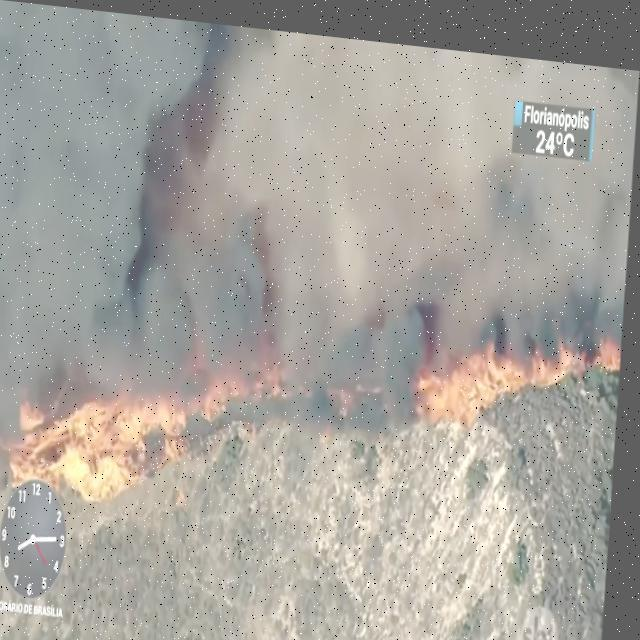Fire: (14, 332, 296, 518), (424, 312, 588, 424), (601, 321, 625, 357)
